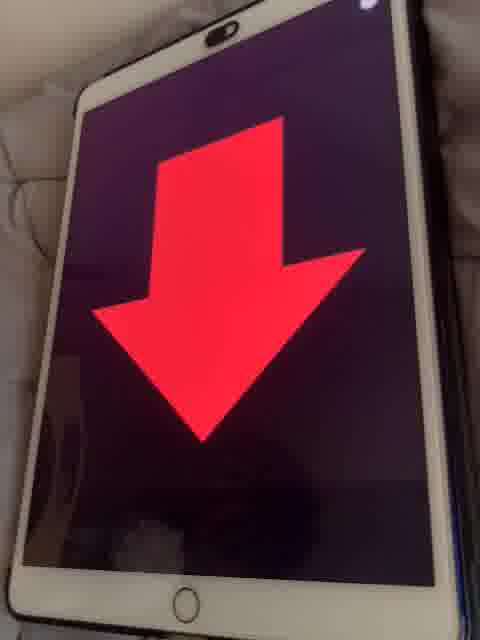down: (81, 111, 380, 451)
